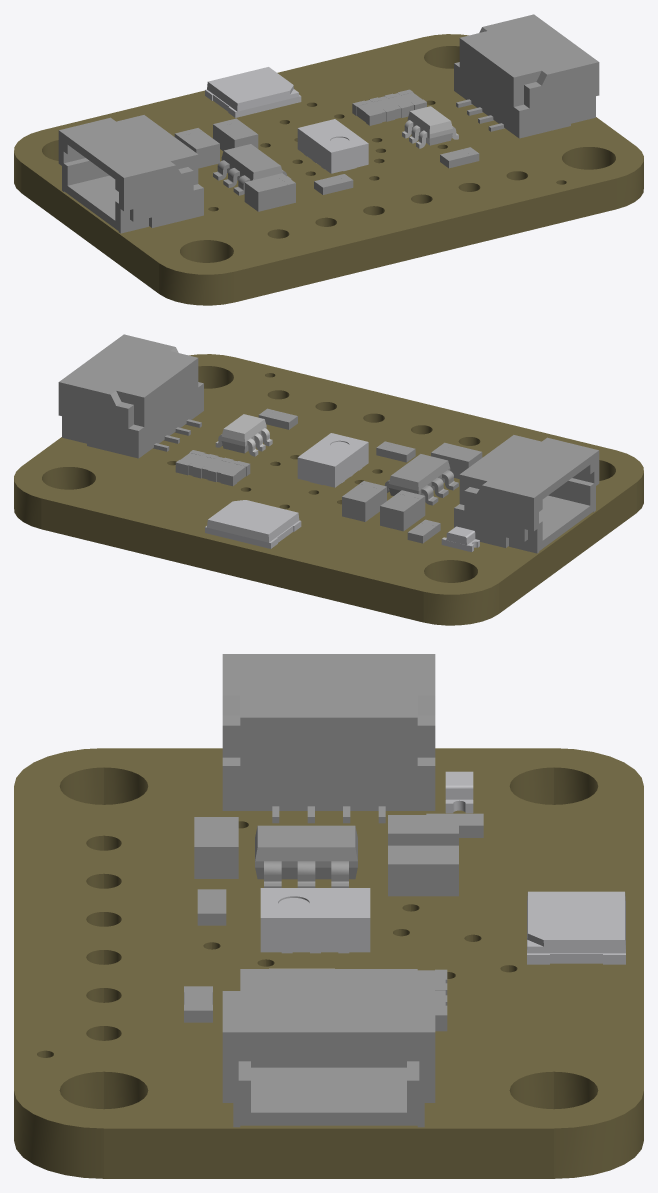
File: ada-4698.glb
3 renders of one model, top to bottom at view 1: azimuth 30°, elevation 25°; view 2: azimuth 150°, elevation 25°; view 3: azimuth 270°, elevation 25°, orthographic. The views are drawn at different scales.
Visible parts, largest first — view 1: 0.16666666666666666_0.16666666666666666_0.08333333333333333_, 0.3333333333333333_0.3333333333333333_0.3333333333333333_0, 0.5833333333333334_0.5833333333333334_0.5833333333333334_0.8, 0.5_0.5_0.5_0.85; view 2: 0.16666666666666666_0.16666666666666666_0.08333333333333333_, 0.3333333333333333_0.3333333333333333_0.3333333333333333_0, 0.5833333333333334_0.5833333333333334_0.5833333333333334_0.8, 0.5_0.5_0.5_0.85; view 3: 0.16666666666666666_0.16666666666666666_0.08333333333333333_, 0.3333333333333333_0.3333333333333333_0.3333333333333333_0, 0.5833333333333334_0.5833333333333334_0.5833333333333334_0.8.
Boxes of the visible parts, x1,y1,x2,y2 form: 0.16666666666666666_0.16666666666666666_0.08333333333333333_: [14, 34, 643, 305]; 0.3333333333333333_0.3333333333333333_0.3333333333333333_0: [58, 14, 599, 233]; 0.5833333333333334_0.5833333333333334_0.5833333333333334_0.8: [205, 67, 368, 173]; 0.5_0.5_0.5_0.85: [402, 106, 458, 148]; 0.16666666666666666_0.16666666666666666_0.08333333333333333_: [14, 354, 643, 625]; 0.3333333333333333_0.3333333333333333_0.3333333333333333_0: [58, 334, 599, 553]; 0.5833333333333334_0.5833333333333334_0.5833333333333334_0.8: [205, 433, 479, 552]; 0.5_0.5_0.5_0.85: [215, 414, 272, 456]; 0.16666666666666666_0.16666666666666666_0.08333333333333333_: [14, 748, 643, 1178]; 0.3333333333333333_0.3333333333333333_0.3333333333333333_0: [184, 654, 483, 1127]; 0.5833333333333334_0.5833333333333334_0.5833333333333334_0.8: [260, 771, 625, 964].
Size of the model in its own units: 2.54 by 0.4529 by 1.78.
